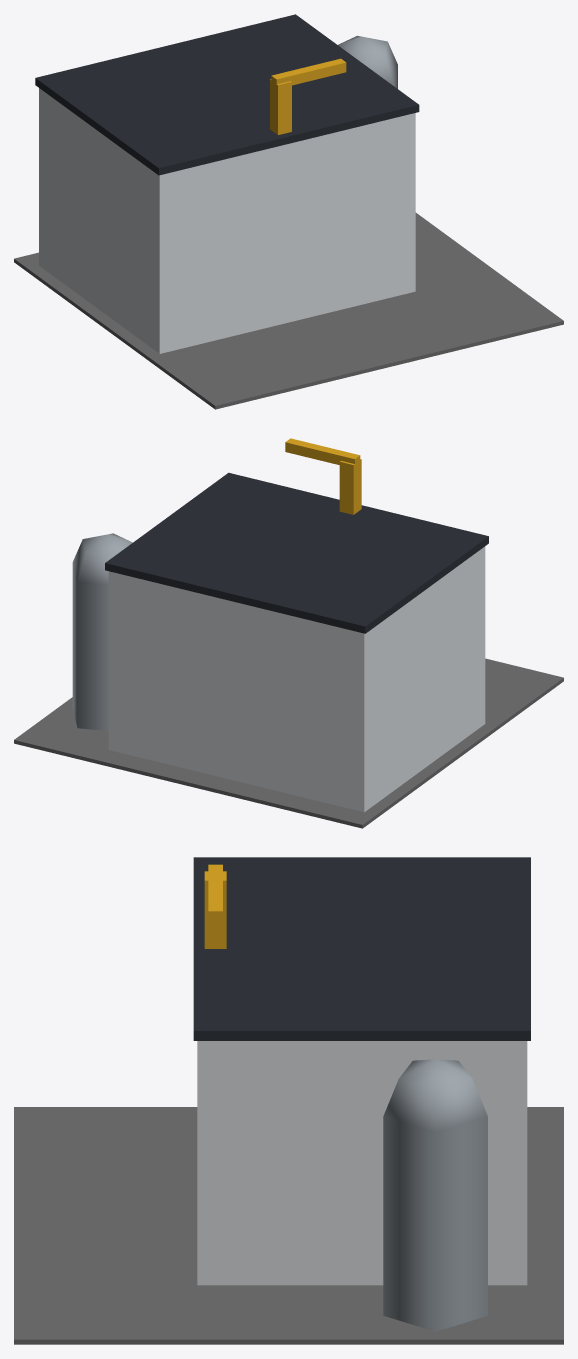
File: bld_special_factory_a08_lod2.glb
The picture shows the model from 3 angles, top to bottom: view 1: azimuth 30°, elevation 25°; view 2: azimuth 150°, elevation 25°; view 3: azimuth 270°, elevation 25°; orthographic projection. The views are drawn at different scales.
Parts seen in each view (by area): view 1: body, arm; view 2: body, arm; view 3: body, arm.
Boxes of the visible parts, x1,y1,x2,y2 form: body: [14, 14, 563, 409]; arm: [270, 58, 346, 134]; body: [14, 472, 563, 828]; arm: [285, 438, 361, 514]; body: [14, 857, 563, 1344]; arm: [204, 864, 226, 948].
Bounding box in the file's own units: 15 × 10.1 × 15.
